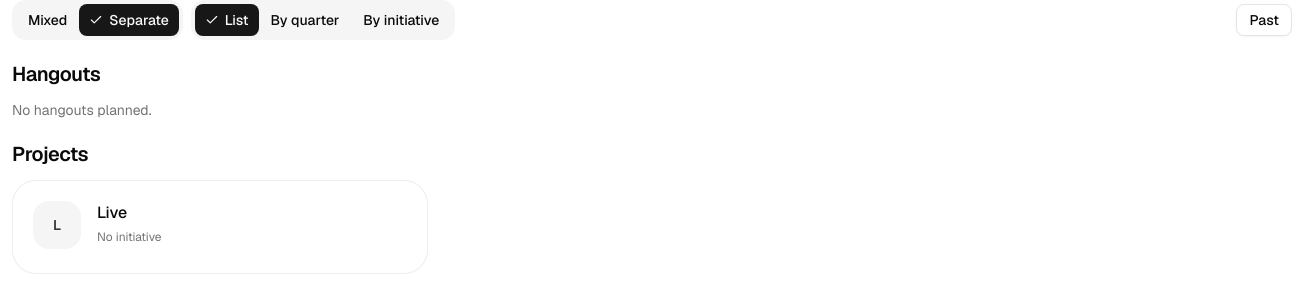
ProjectOverview › says when no project is finished in the separate layout
Click the button "Past".
click(1264, 20)  # box [1236,4,1292,36]
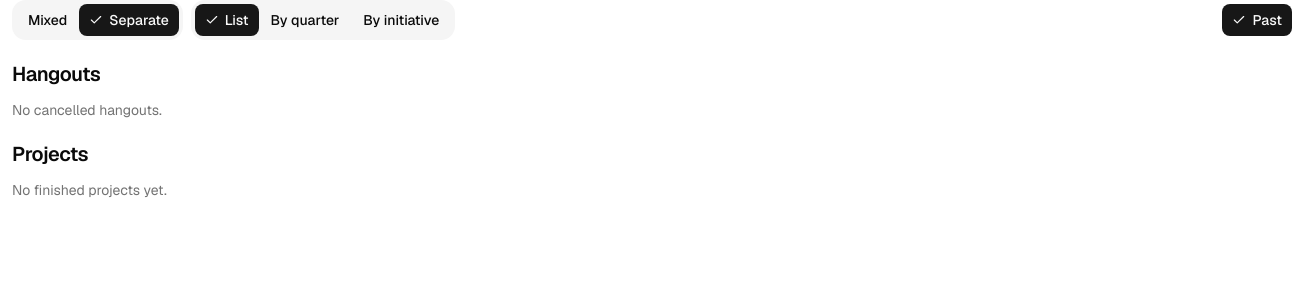
Expected: the text "No finished projects yet." is shown, [12,181,167,199]
